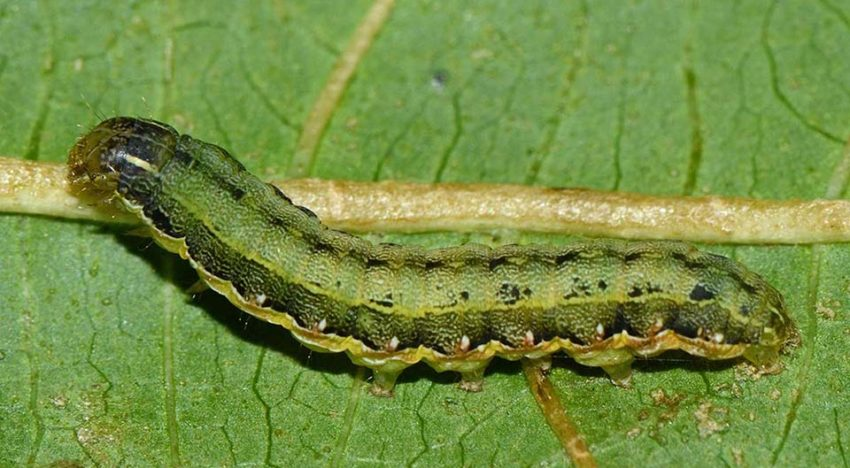Armyworm: (53, 86, 800, 393)
